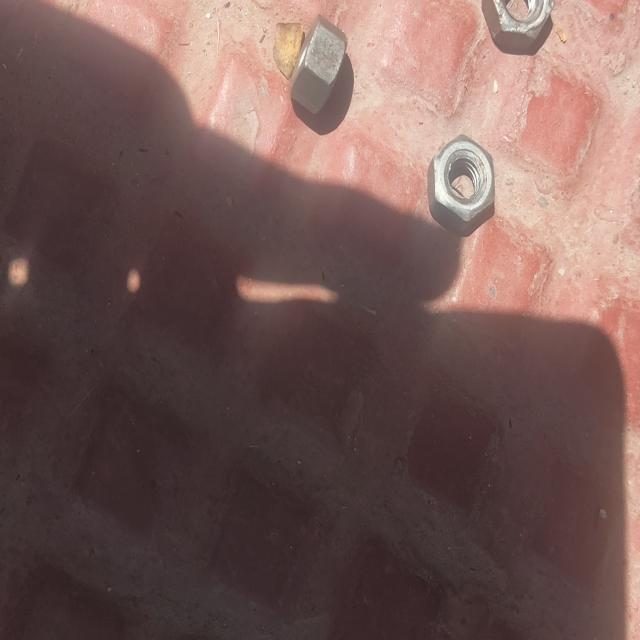disinfected nut: (272, 17, 348, 113), (428, 137, 495, 237), (482, 0, 552, 53), (302, 27, 345, 83)
